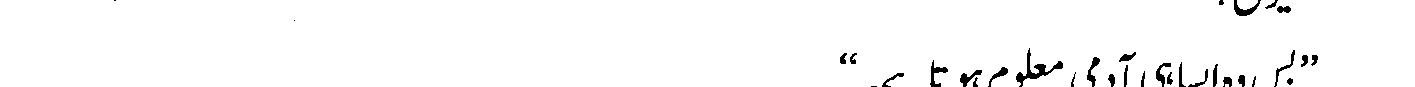bay_shosha: (1283, 59, 1296, 85)
